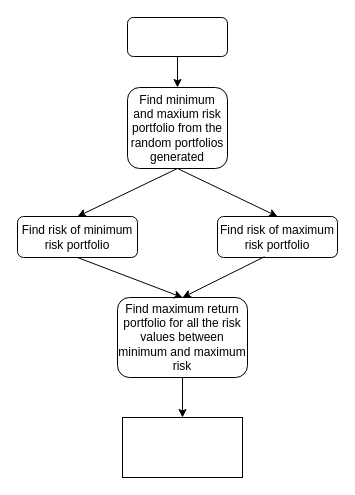
Image size: 355x495. Some labels were removed from this diagram. The box of each missing label's shape, as (x1, y1, x2, y2) in pixels:
Generate 10000 random portfolios: (126, 16, 228, 56)
The path traced by maximum return portfolios is efficient frontier: (122, 416, 242, 478)
